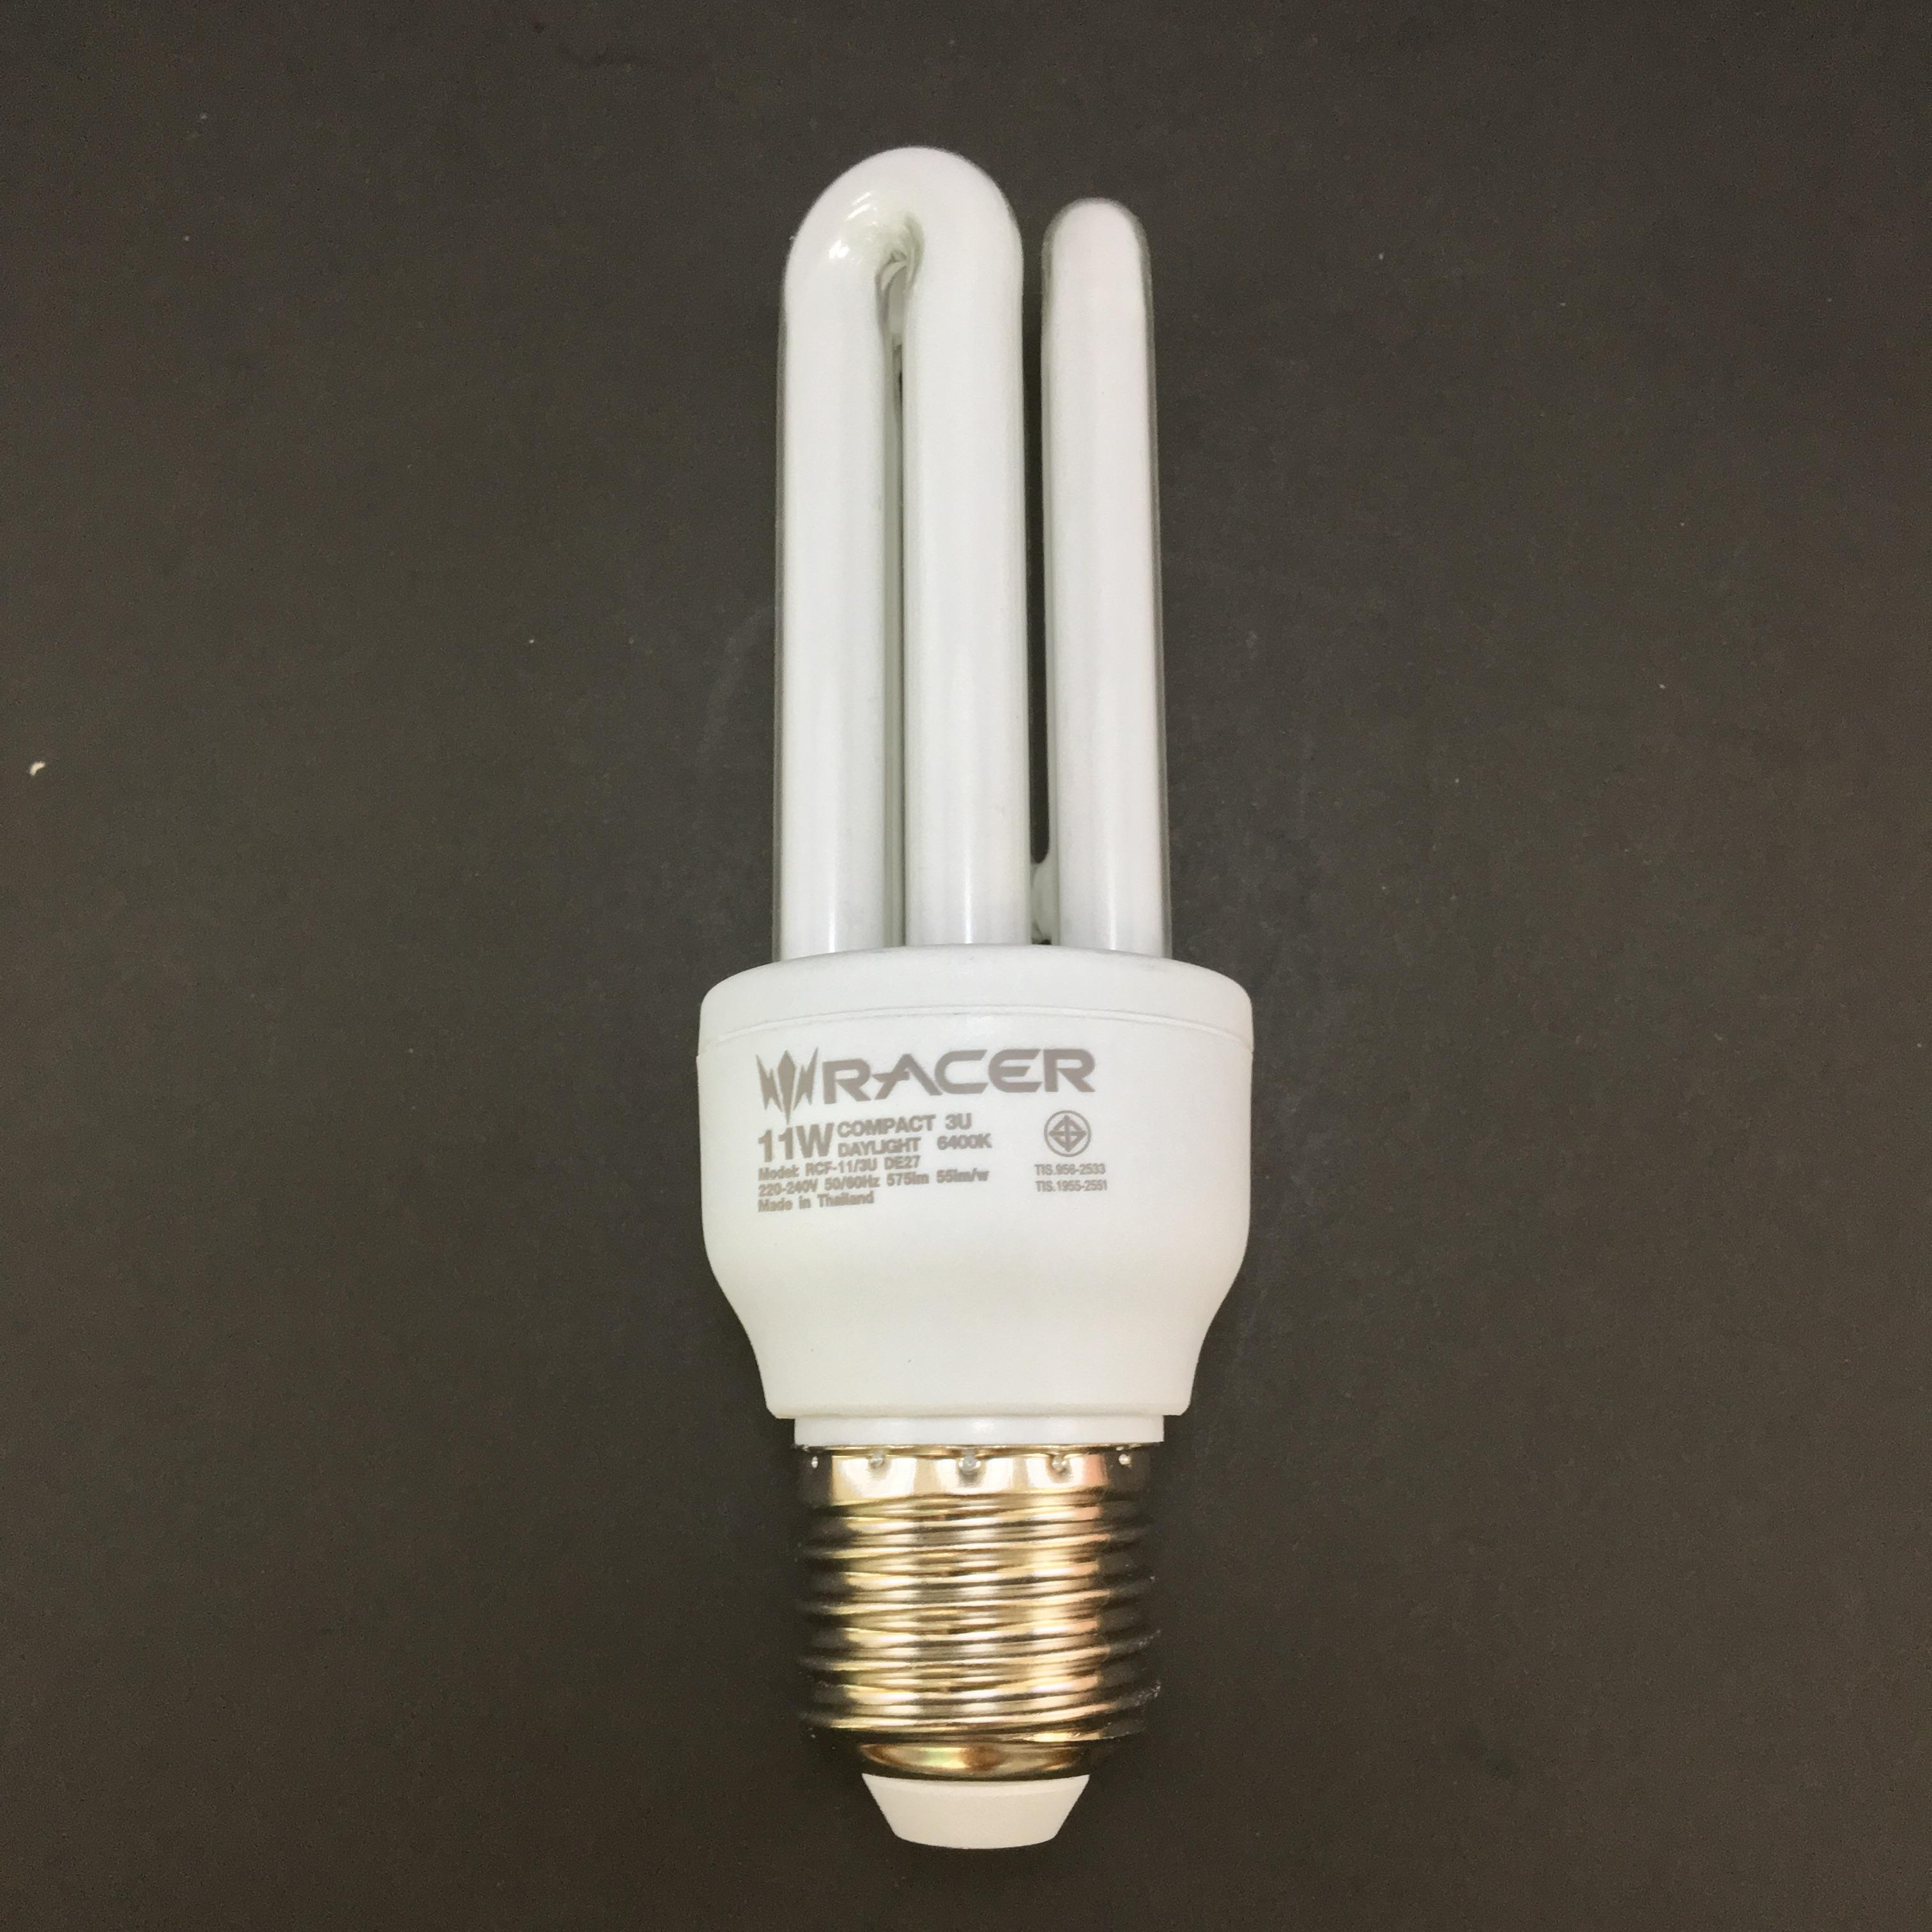Light_bulb: (681, 122, 1263, 1877)
